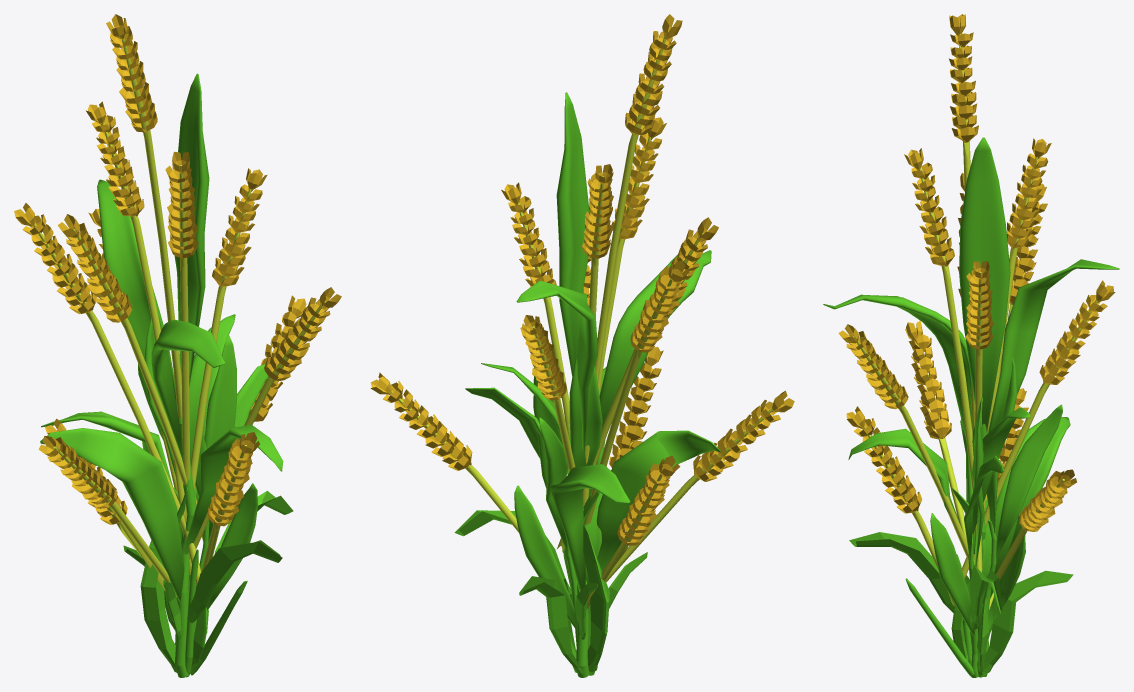
File: wheat3.fbx
3 views of the same model, side by side, from view 1: azimuth 30°, elevation 25°; view 2: azimuth 150°, elevation 25°; view 3: azimuth 270°, elevation 25° (orthographic). The views are drawn at different scales.
Visible parts, largest first — view 1: wheat stage 3; view 2: wheat stage 3; view 3: wheat stage 3.
Part boxes in pixels (x1,y1,x2,y2): wheat stage 3: (14, 14, 341, 677); wheat stage 3: (370, 14, 794, 677); wheat stage 3: (823, 14, 1119, 677).
Size of the model in its own units: 66.13 by 123 by 52.62.
